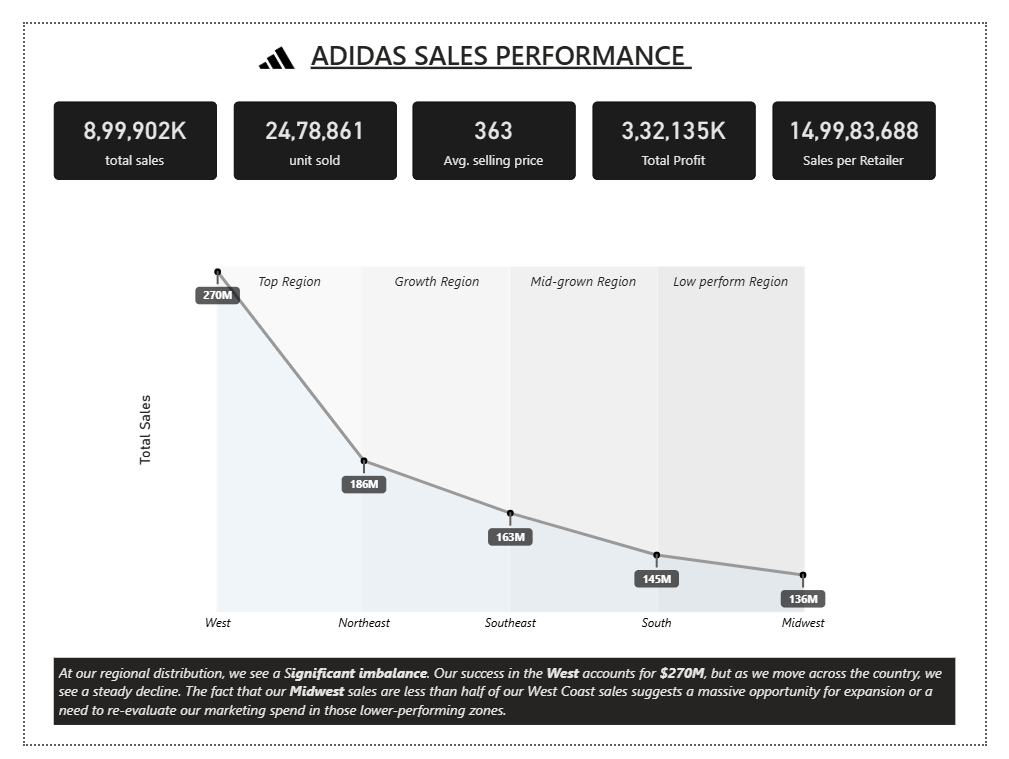

Layout of this report page (visuals, bound fields, positions):
{"tool":"powerbi","page":{"name":"Overview","canvas":[960,720],"ordinal":0},"visuals":[{"type":"shape","box":[485.1,242,147,346],"z":0},{"type":"shape","box":[338.1,242,147,346],"z":1000},{"type":"shape","box":[191.1,242,147,346],"z":2000},{"type":"textbox","box":[221.4,7.1,510,60],"z":3000},{"type":"card","fields":{"Values":["Sales_details.Total_Sales"]},"box":[28.5,78,162.8,78],"z":4000},{"type":"card","fields":{"Values":["Sales_details.Sales per Retailer"]},"box":[747.6,78,162.8,78],"z":5000},{"type":"card","fields":{"Values":["Sales_details.Total Profit"]},"box":[567.8,78,162.8,78],"z":6000},{"type":"card","fields":{"Values":["Sales_details.ASP"]},"box":[388,78,162.8,78],"z":7000},{"type":"card","fields":{"Values":["Sales_details.Units_Sold"]},"box":[208.3,78,162.8,78],"z":8000},{"type":"image","box":[234.3,11.4,35.7,44.3],"z":9000},{"type":"shape","box":[632,242,147,346],"z":10000},{"type":"lineChart","fields":{"Category":["Sales_details.Region"],"Y":["Sales_details.Total_Sales"]},"box":[107.1,211.4,734.3,405.7],"z":11000},{"type":"textbox","box":[201.3,242,126.6,29.4],"z":12000},{"type":"textbox","box":[348.2,242,126.6,29.4],"z":13000},{"type":"textbox","box":[495.2,242,126.6,29.4],"z":14000},{"type":"textbox","box":[642.2,242,126.6,29.4],"z":15000},{"type":"textbox","box":[29.3,634.3,901.4,67.1],"z":16000}]}

Visuals, with their boxes in screenshot pixels (x1, y1, x2, y2), scaled from the page's 960x720 canvas onto the 1009x759 screenshot:
shape: [left=510, top=255, right=664, bottom=620]
shape: [left=355, top=255, right=510, bottom=620]
shape: [left=201, top=255, right=355, bottom=620]
textbox: [left=233, top=7, right=769, bottom=71]
card - Sales_details.Total_Sales: [left=30, top=82, right=201, bottom=164]
card - Sales_details.Sales per Retailer: [left=786, top=82, right=957, bottom=164]
card - Sales_details.Total Profit: [left=597, top=82, right=768, bottom=164]
card - Sales_details.ASP: [left=408, top=82, right=579, bottom=164]
card - Sales_details.Units_Sold: [left=219, top=82, right=390, bottom=164]
image: [left=246, top=12, right=284, bottom=59]
shape: [left=664, top=255, right=819, bottom=620]
lineChart - Sales_details.Region x Sales_details.Total_Sales: [left=113, top=223, right=884, bottom=651]
textbox: [left=212, top=255, right=345, bottom=286]
textbox: [left=366, top=255, right=499, bottom=286]
textbox: [left=520, top=255, right=654, bottom=286]
textbox: [left=675, top=255, right=808, bottom=286]
textbox: [left=31, top=669, right=978, bottom=739]
